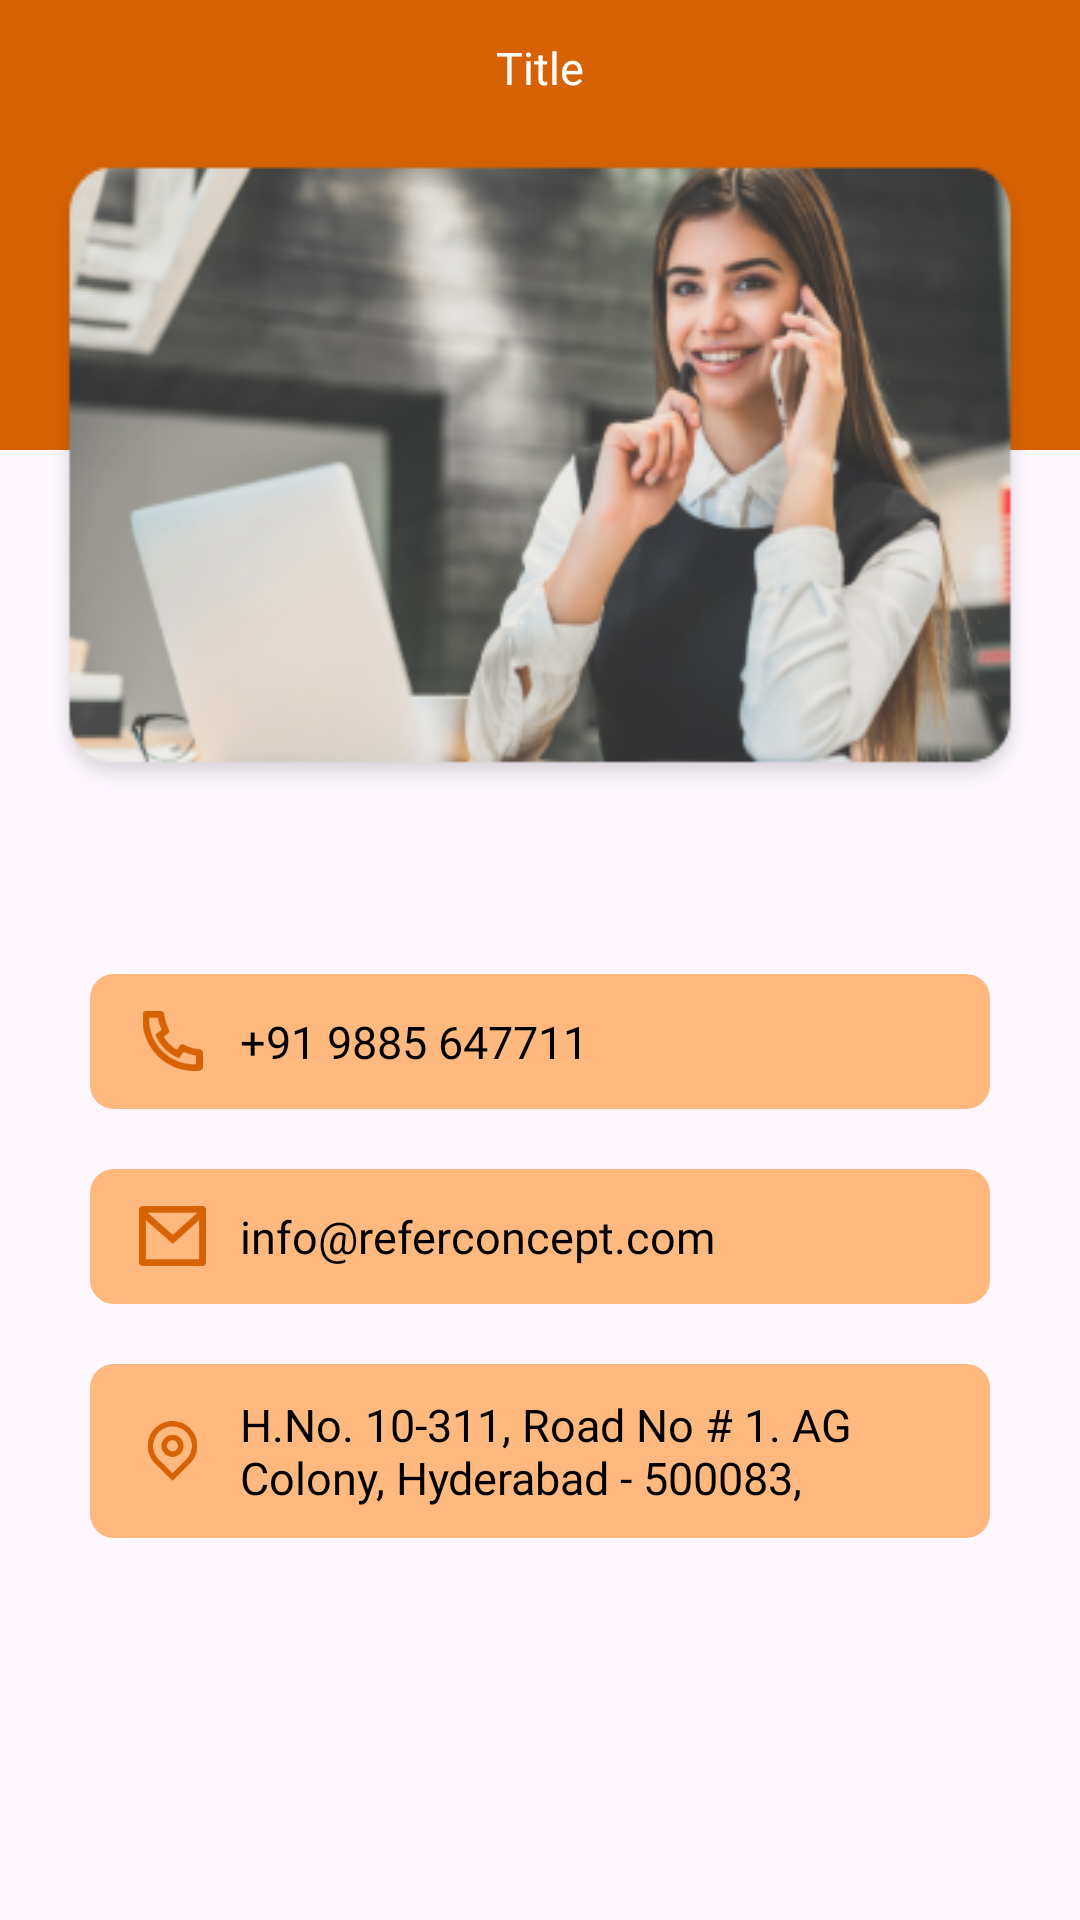

Locate icon controls on the screen. Image size 1080 x 1920, boxes as (x1, y1, x2, y2).
contact phone: (143, 1011, 203, 1071)
mail contactus: (139, 1206, 206, 1266)
marker: (148, 1421, 197, 1481)
